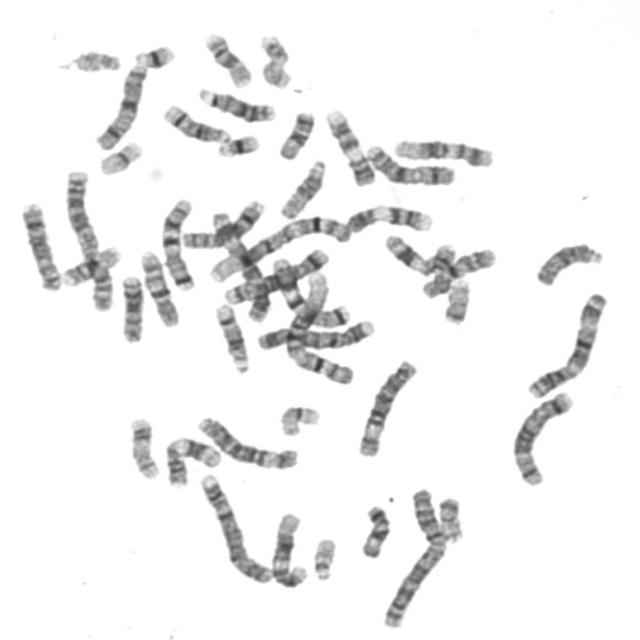A1: (203, 210, 354, 285), (272, 267, 358, 388)
A2: (377, 482, 450, 631), (59, 164, 118, 314)
A3: (521, 284, 611, 400), (206, 206, 272, 325)
B4: (194, 467, 275, 586), (252, 312, 378, 352)
B5: (506, 384, 577, 488), (218, 242, 332, 306)
C10: (416, 242, 499, 300), (133, 244, 182, 328)
C11: (379, 228, 459, 277), (160, 429, 223, 488)
C12: (388, 132, 497, 169), (266, 506, 311, 590)
C6: (352, 353, 421, 459), (193, 410, 301, 471)
C7: (269, 254, 351, 329), (156, 192, 198, 292)
C8: (175, 192, 268, 250), (14, 196, 64, 293)
C9: (320, 102, 378, 186), (341, 198, 436, 235)
D13: (193, 81, 277, 124), (115, 270, 146, 344)
D14: (157, 98, 233, 145), (209, 298, 252, 376)
D15: (530, 236, 606, 288), (273, 154, 329, 221)
E16: (198, 26, 254, 90), (57, 240, 124, 288)
E17: (253, 28, 296, 91), (124, 411, 162, 481)
E18: (272, 105, 318, 161), (355, 499, 393, 560)
F19: (93, 135, 146, 177), (274, 400, 322, 438)
F20: (438, 274, 473, 326), (434, 491, 466, 544)
G21: (129, 37, 178, 70), (212, 128, 262, 159)
G22: (308, 532, 339, 582), (75, 51, 122, 74)
X: (89, 58, 150, 152), (361, 138, 458, 187)
